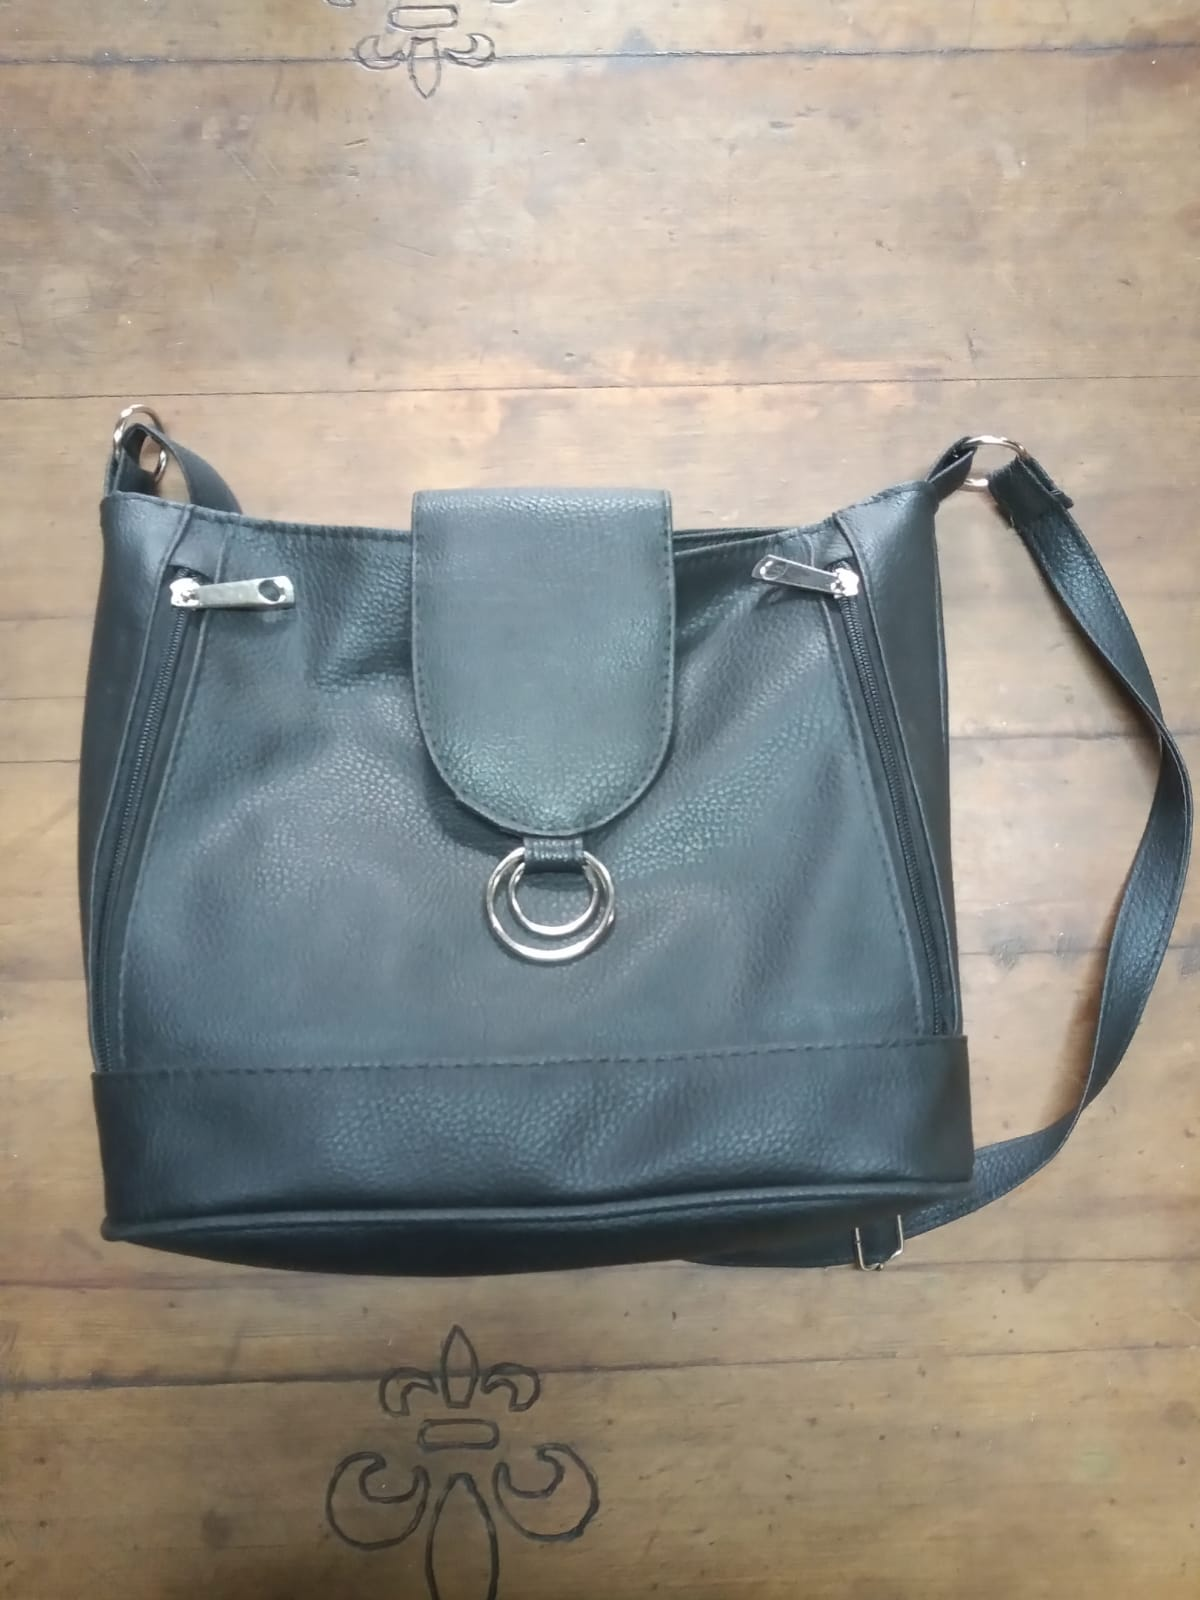cartera: (61, 389, 1200, 1288)
cuero: (95, 489, 983, 1272)
